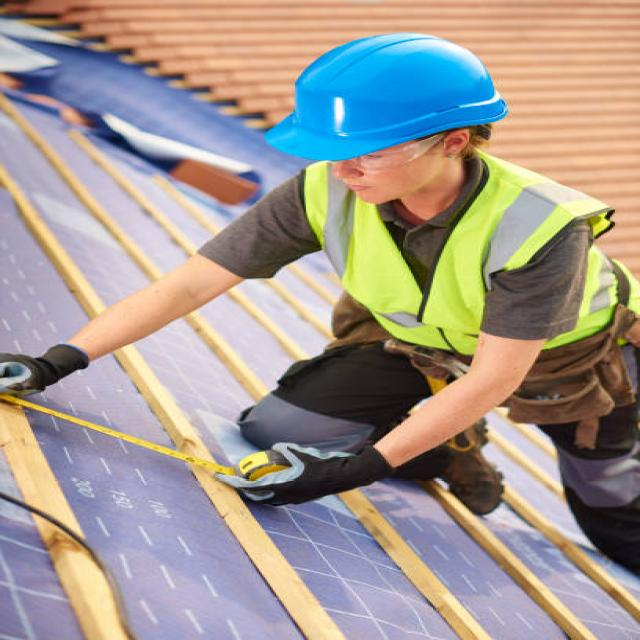gloves: (220, 441, 402, 507), (0, 344, 88, 402)
